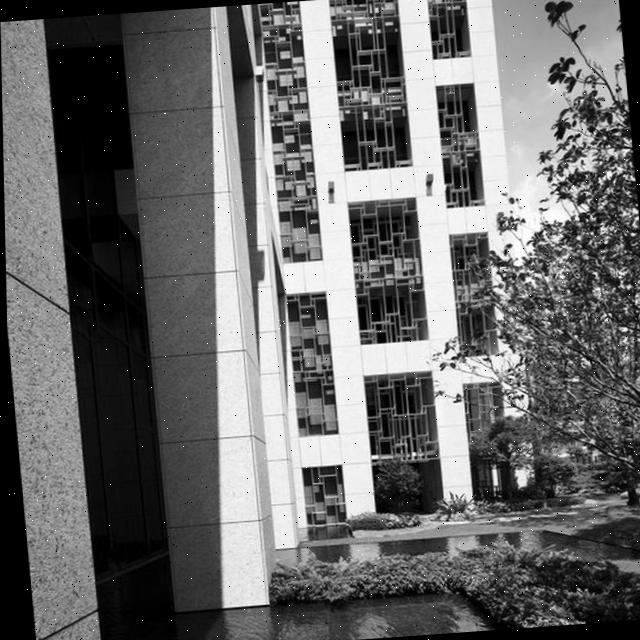building: (0, 0, 548, 640)
